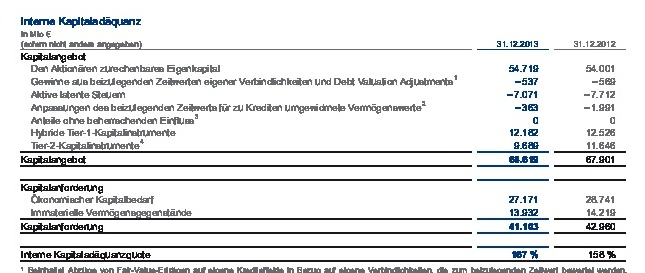table: (0, 0, 645, 273)
